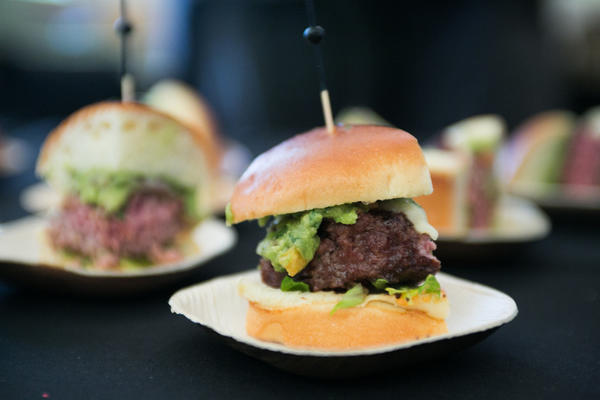hamburger: (235, 110, 464, 357), (32, 114, 219, 276)
